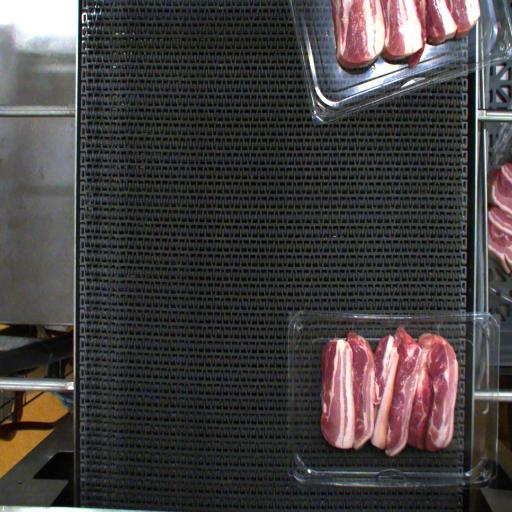packaging-error: (343, 318, 358, 335), (429, 320, 441, 339), (398, 318, 410, 330)
